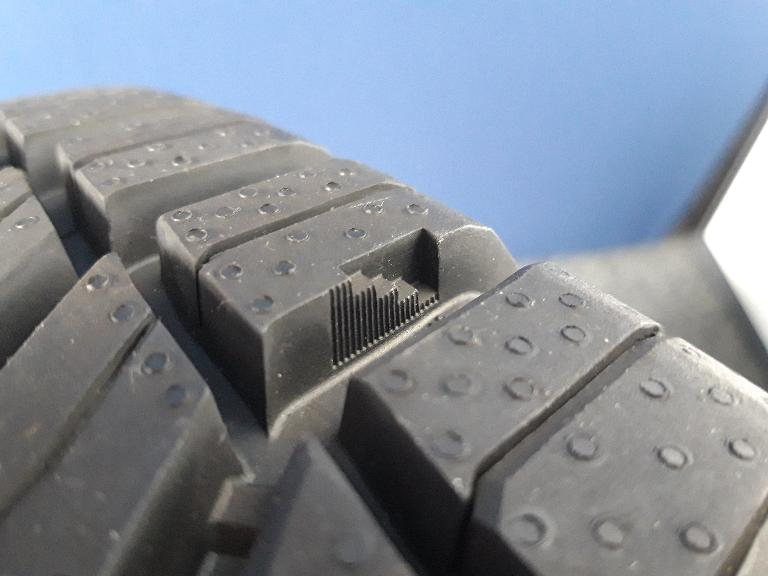temoin:100: (324, 221, 450, 376)
